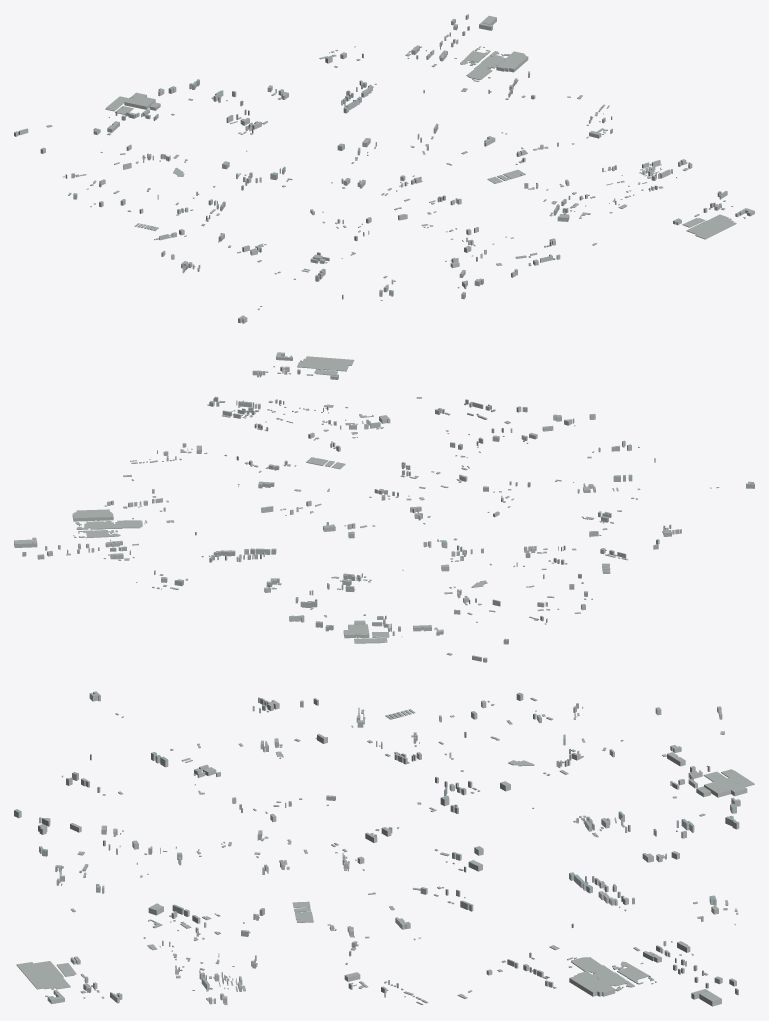
3 views of the same model, one above another, from view 1: azimuth 30°, elevation 25°; view 2: azimuth 150°, elevation 25°; view 3: azimuth 270°, elevation 25° (orthographic). The views are drawn at different scales.
Parts seen in each view (by area): view 1: 上海全域建筑分块 · mapped building neighborhood; view 2: 上海全域建筑分块 · mapped building neighborhood; view 3: 上海全域建筑分块 · mapped building neighborhood.
Part boxes in pixels (<box>): 上海全域建筑分块 · mapped building neighborhood: <box>14,14,754,323</box>; 上海全域建筑分块 · mapped building neighborhood: <box>14,352,754,662</box>; 上海全域建筑分块 · mapped building neighborhood: <box>14,691,754,1006</box>.
Bounding box in the file's own units: 2127 × 22.21 × 2150.
